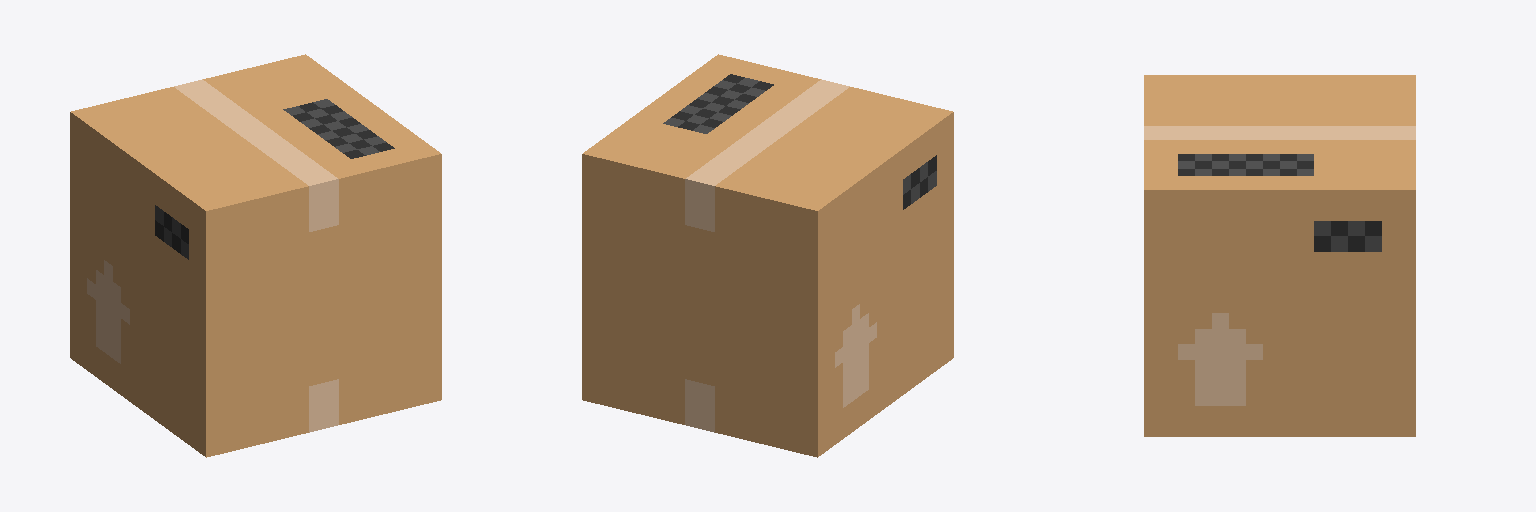
The picture shows the model from 3 angles: view 1: azimuth 30°, elevation 25°; view 2: azimuth 150°, elevation 25°; view 3: azimuth 270°, elevation 25°; orthographic projection.
Parts seen in each view (by area): view 1: cuboid; view 2: cuboid; view 3: cuboid.
Part boxes in pixels (left/top/right/bottom): cuboid: left=70, top=54, right=441, bottom=457; cuboid: left=582, top=54, right=953, bottom=457; cuboid: left=1144, top=75, right=1415, bottom=436.
Bounding box in the file's own units: 1 × 1 × 1.
1 materials, 1 textured.